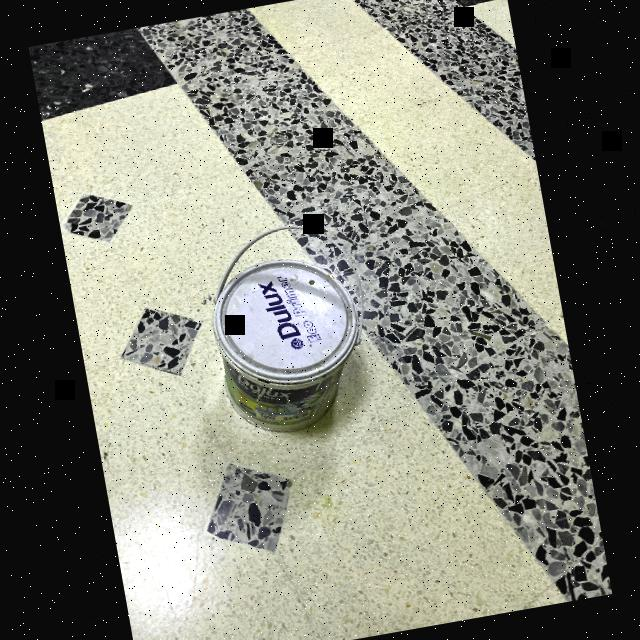paint_bucket: (176, 201, 402, 446)
